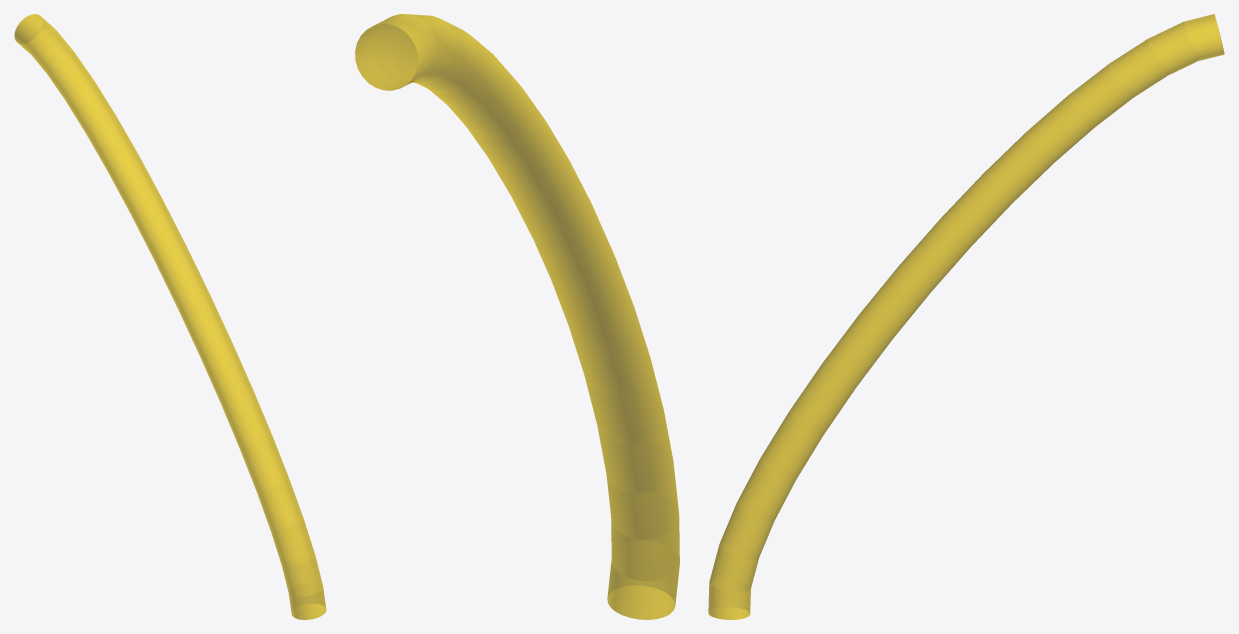
File: Event_419990632_track_52.fbx
3 views of the same model, side by side, from view 1: azimuth 30°, elevation 25°; view 2: azimuth 150°, elevation 25°; view 3: azimuth 270°, elevation 25° (orthographic). The views are drawn at different scales.
Visible parts, largest first — view 1: Model; view 2: Model; view 3: Model.
Boxes of the visible parts, x1,y1,x2,y2 form: Model: (14, 14, 326, 619); Model: (355, 14, 679, 619); Model: (708, 14, 1224, 619).
Bounding box in the file's own units: 0.1372 × 0.5855 × 0.4919.
